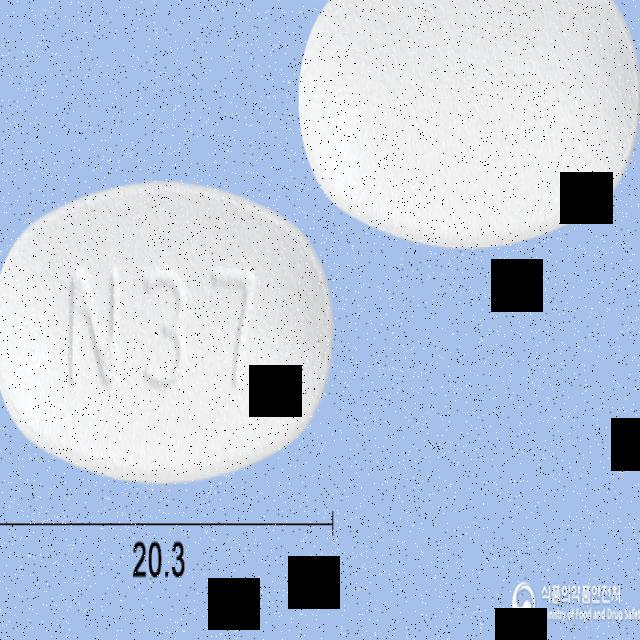Moxiclen Tab-625mg: (0, 175, 332, 485)
